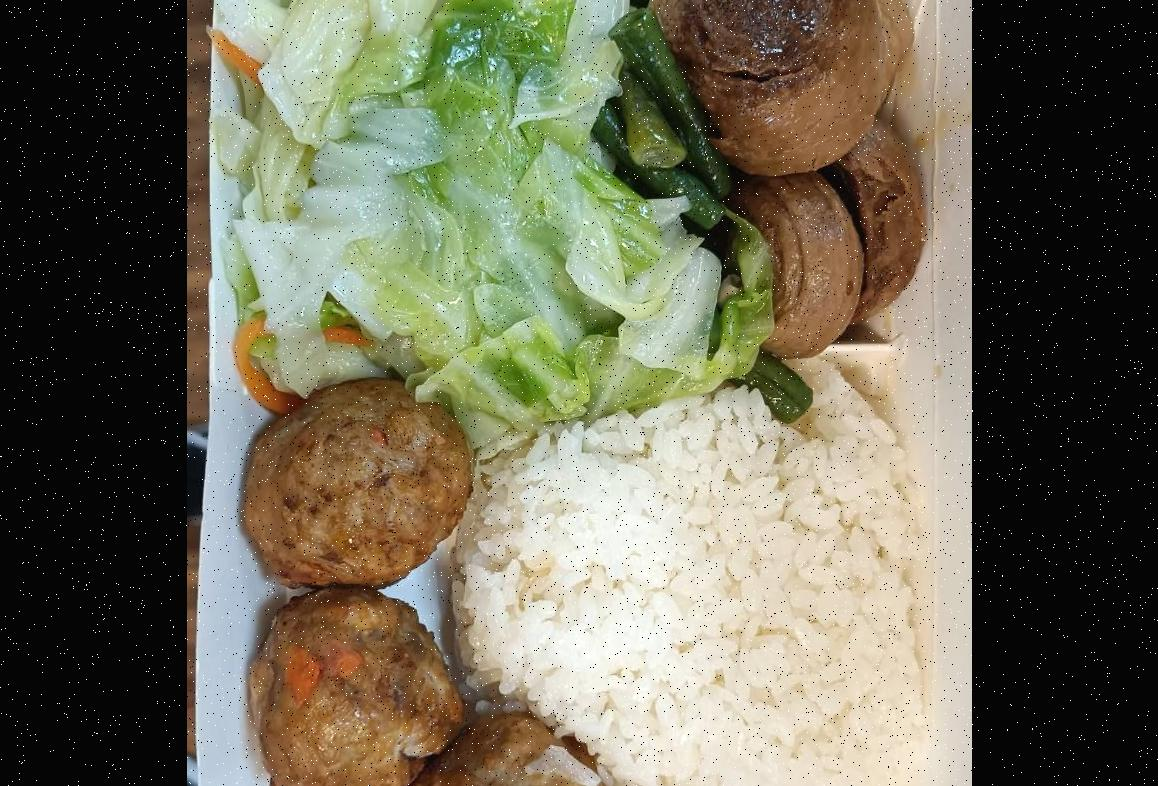big grilled chicken leg: (186, 0, 965, 786)
big herbal chicken leg: (447, 365, 931, 786)
braised fish fillet: (225, 0, 760, 406), (643, 0, 923, 364), (600, 7, 804, 438)
braised pork: (230, 383, 628, 786)
